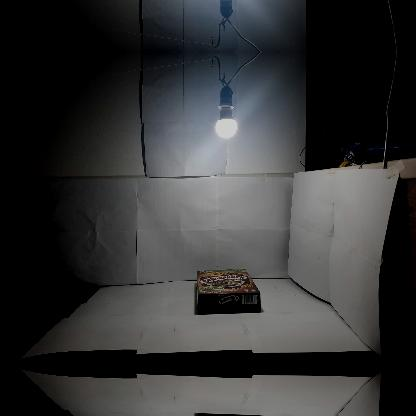Koko-Krunch: (196, 268, 260, 314)
